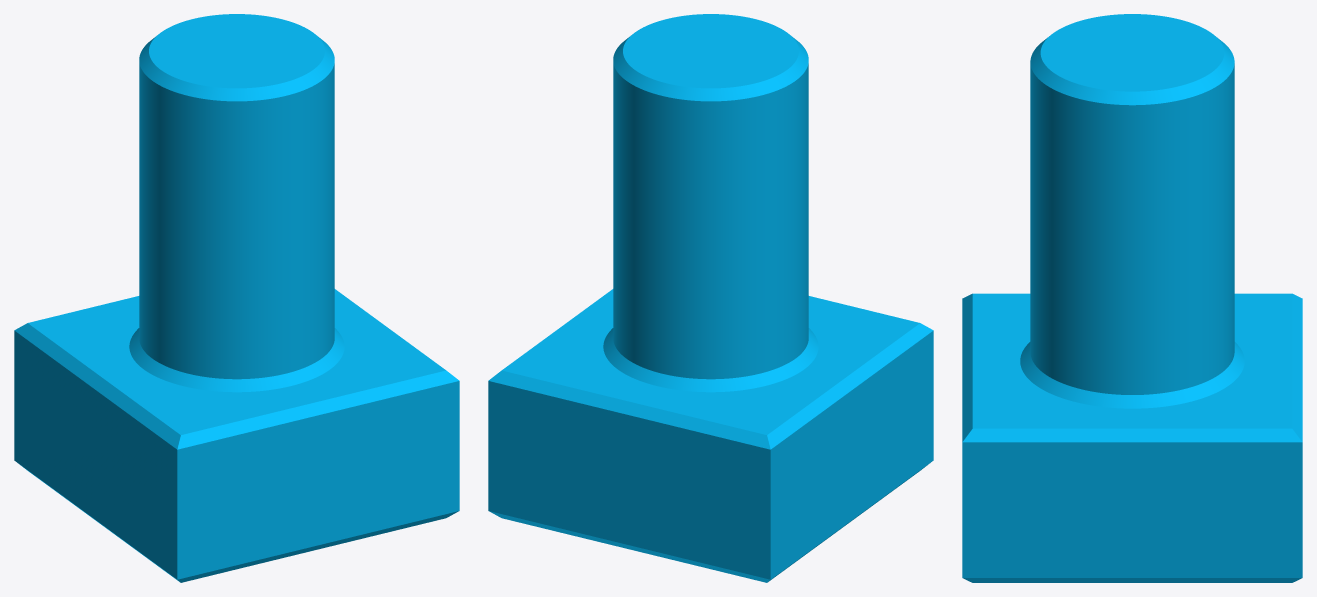
The model's file is parallel_Z_yuzey_kenar_pah.gltf.
3 views of the same model, side by side, from view 1: azimuth 30°, elevation 25°; view 2: azimuth 150°, elevation 25°; view 3: azimuth 270°, elevation 25° (orthographic). The views are drawn at different scales.
Visible parts, largest first — view 1: Gövde; view 2: Gövde; view 3: Gövde.
Boxes of the visible parts, x1=… form: Gövde: x1=14, y1=14, x2=459, y2=582; Gövde: x1=488, y1=14, x2=933, y2=582; Gövde: x1=962, y1=14, x2=1302, y2=582.
Bounding box in the file's own units: 0.01 × 0.015 × 0.01.
